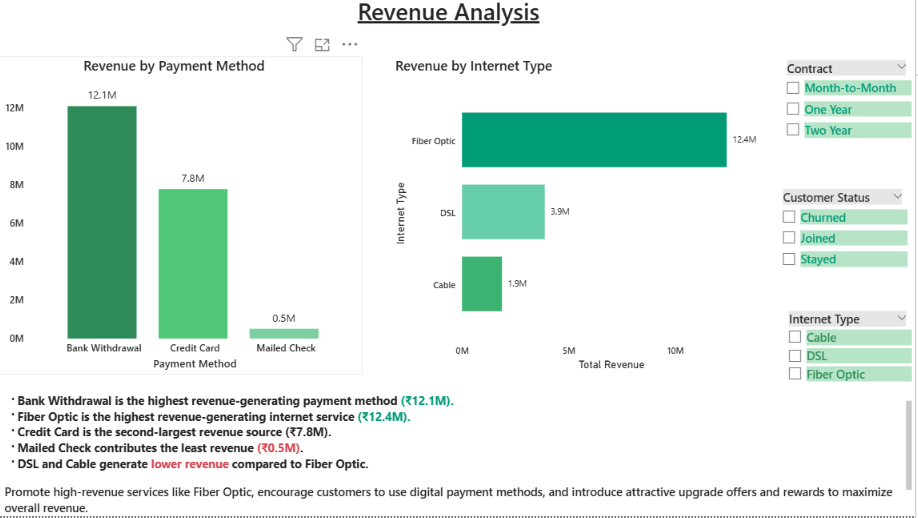

The page's visual inventory and layout, read from the dashboard file:
{"tool":"powerbi","page":{"name":"Revenue Analysis","canvas":[1280,720],"ordinal":2},"visuals":[{"type":"textbox","box":[4.7,0,1270.5,62.4],"z":0},{"type":"textbox","box":[24.7,544.8,1255.6,175.6],"z":1000},{"type":"clusteredColumnChart","title":"Revenue by Payment Method","fields":{"Y":["_Measures.Total Revenue"],"Category":["telecom_customer_churn.Payment Method"]},"box":[4.1,89.2,517.3,436.4],"z":2000},{"type":"clusteredBarChart","title":"Revenue by Internet Type","fields":{"Y":["_Measures.Total Revenue"],"Category":["telecom_customer_churn.Internet Type"]},"box":[561.2,89.2,524.2,436.4],"z":3000},{"type":"slicer","fields":{"Values":["telecom_customer_churn.Contract"]},"box":[1090.9,89.2,189.4,152.3],"z":4000},{"type":"slicer","fields":{"Values":["telecom_customer_churn.Customer Status"]},"box":[1085.4,266.2,189.4,146.8],"z":5000},{"type":"slicer","fields":{"Values":["telecom_customer_churn.Internet Type"]},"box":[1093.7,433.6,186.6,127.6],"z":6000}]}

Visuals, with their boxes in screenshot pixels (x1, y1, x2, y2), scaled from the page's 1280x720 canvas onto the 918x518 screenshot:
textbox: (left=3, top=0, right=915, bottom=45)
textbox: (left=18, top=392, right=917, bottom=517)
"Revenue by Payment Method" clusteredColumnChart: (left=3, top=64, right=374, bottom=378)
"Revenue by Internet Type" clusteredBarChart: (left=402, top=64, right=778, bottom=378)
slicer - telecom_customer_churn.Contract: (left=782, top=64, right=917, bottom=174)
slicer - telecom_customer_churn.Customer Status: (left=778, top=192, right=914, bottom=297)
slicer - telecom_customer_churn.Internet Type: (left=784, top=312, right=917, bottom=404)
